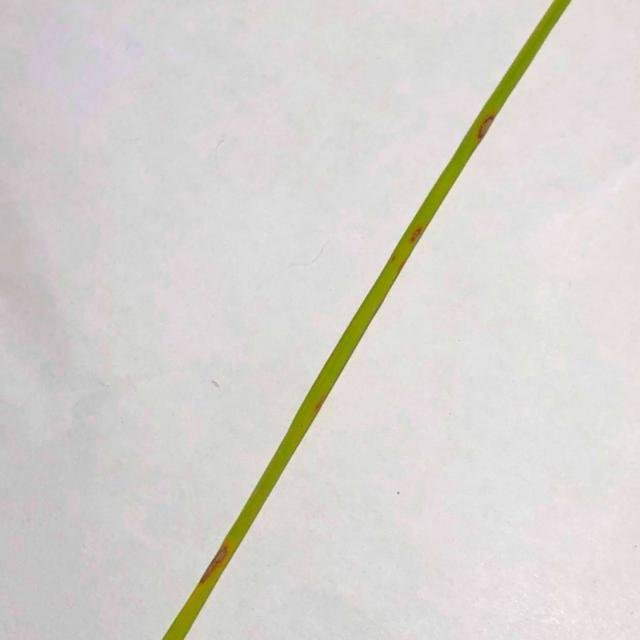Blast: (207, 550, 224, 579), (411, 223, 422, 246), (479, 120, 492, 136)
